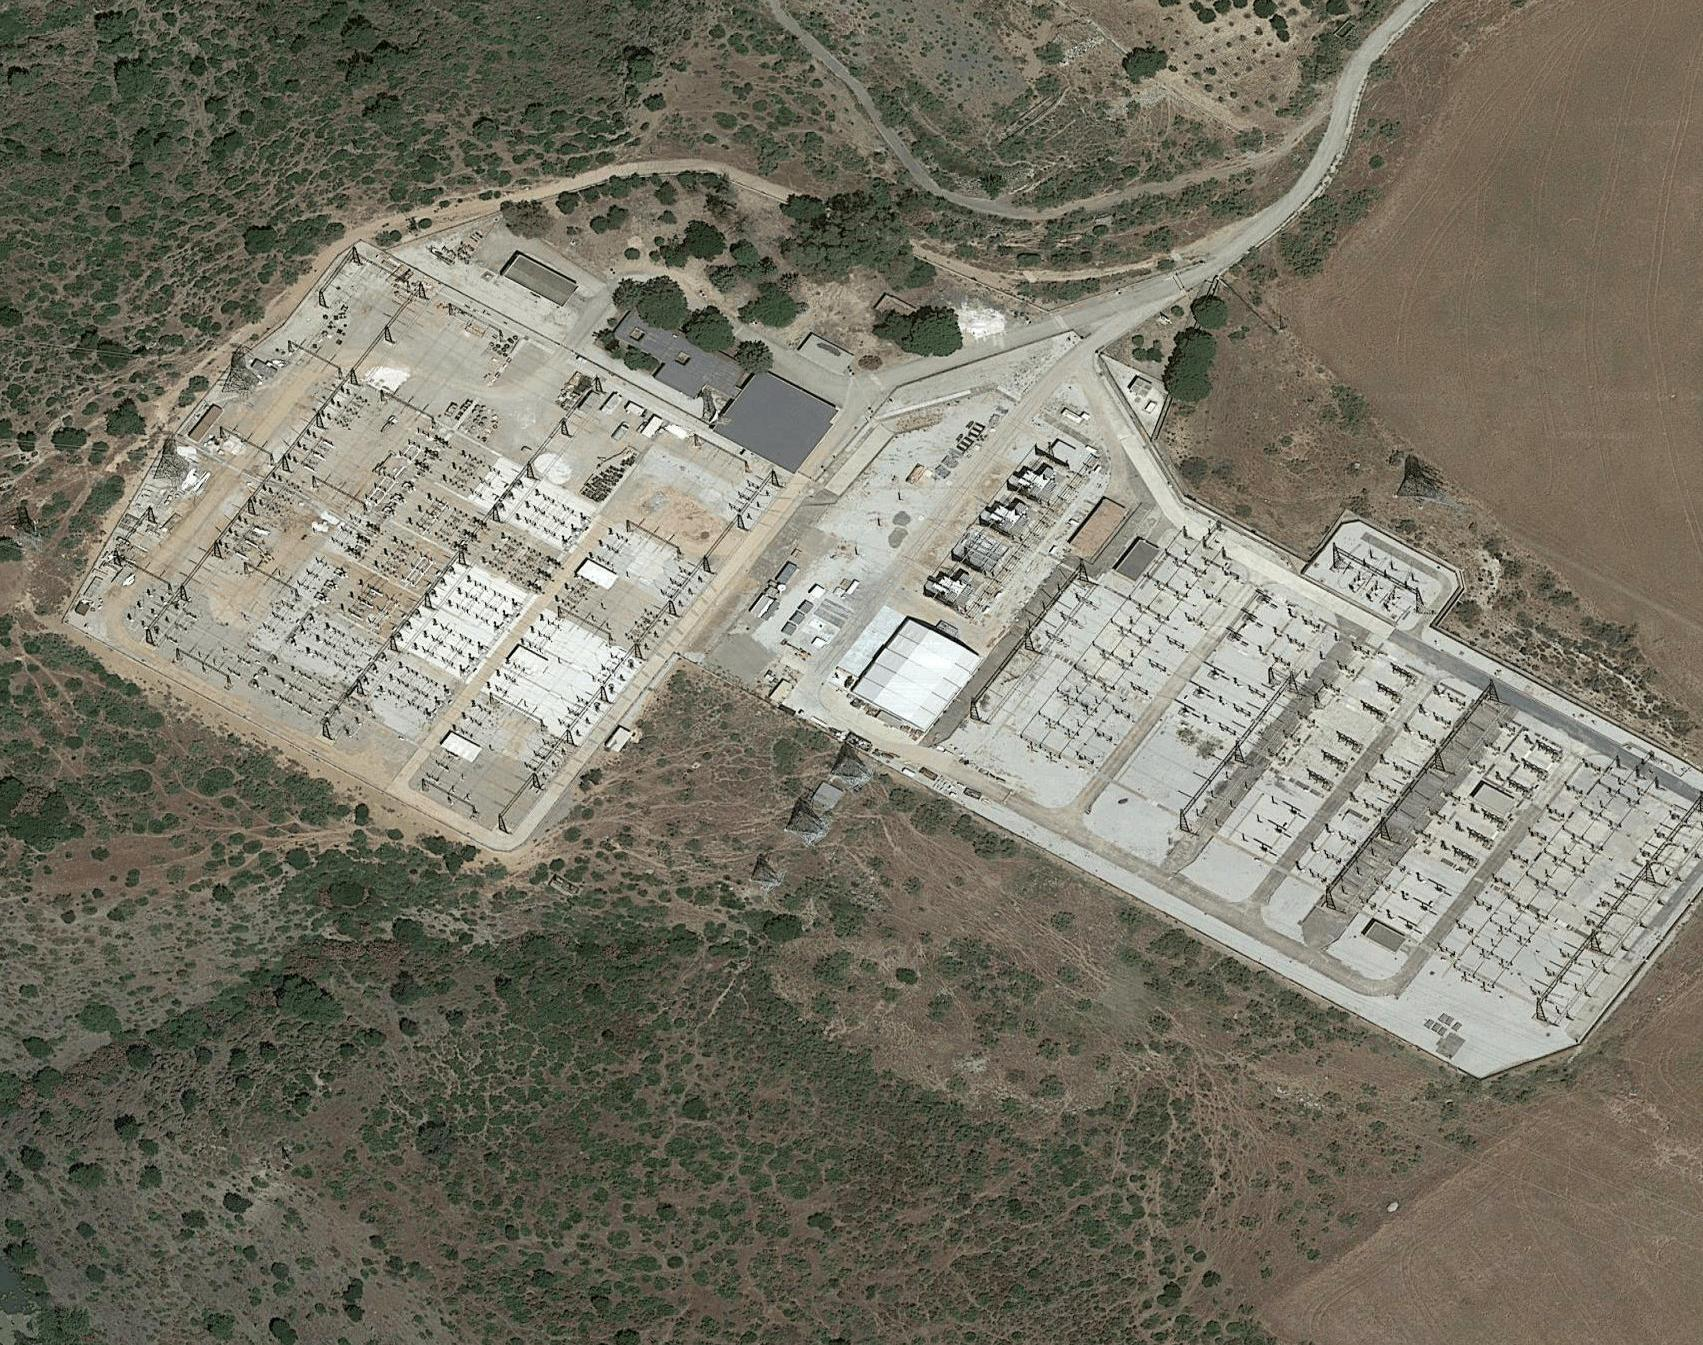substation: (914, 429, 1703, 1037), (88, 234, 784, 836)
